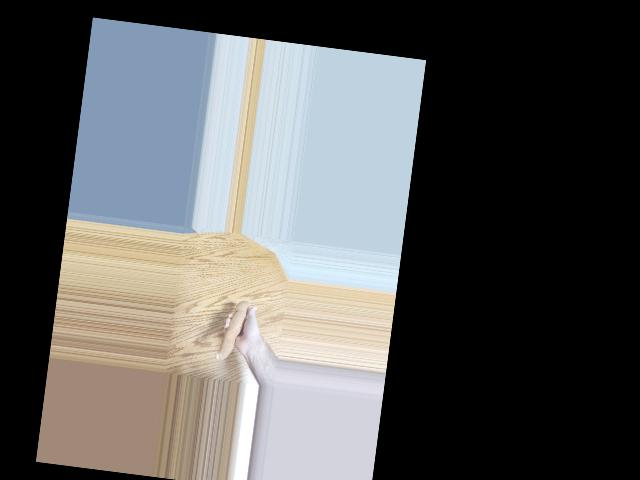sweet_potato: (225, 298, 249, 363)
